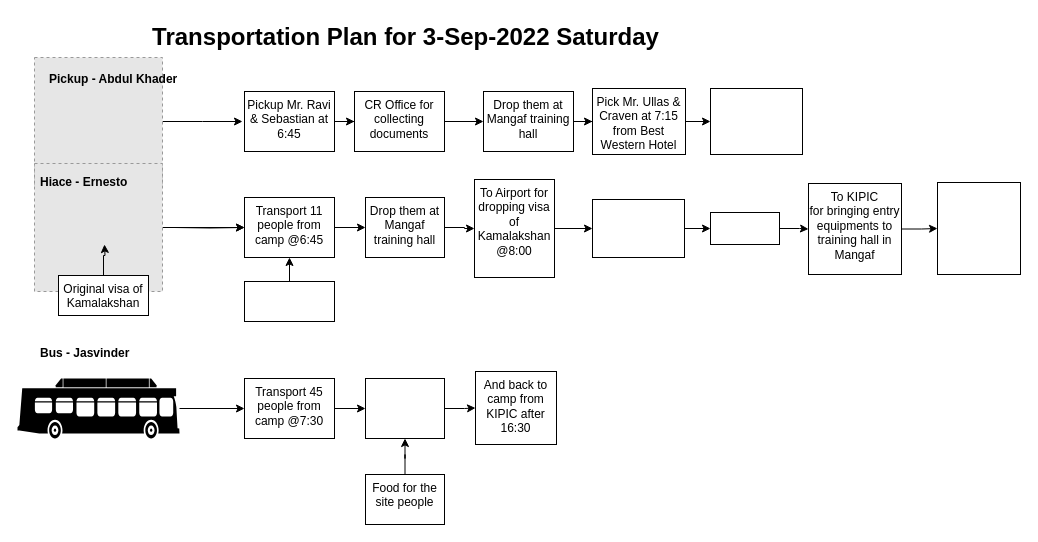
The diagram is 1038 pixels wide and 542 high, and some of its shapes have lost their labels. Grey dashed boxes stand in for pictures. Each missing label, with the box of its shape:
Bring food for the people & stay in Mangaf till training is over: (936, 182, 1020, 274)
Drop at KIPIC & stay in KIPIC: (364, 378, 444, 438)
Drop them at Mangaf training hall & stay with them: (710, 88, 802, 154)
Pick Kamalakshan arriving at 8:50: (592, 198, 684, 258)
To Camp: (710, 212, 780, 244)
Water Bottles 50Pcs: (244, 280, 334, 322)
